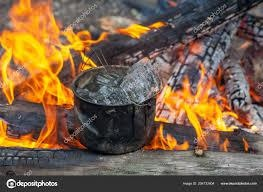fire: (149, 45, 255, 151), (0, 0, 98, 108), (107, 17, 167, 36)
